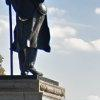Statue: (6, 2, 65, 74)
